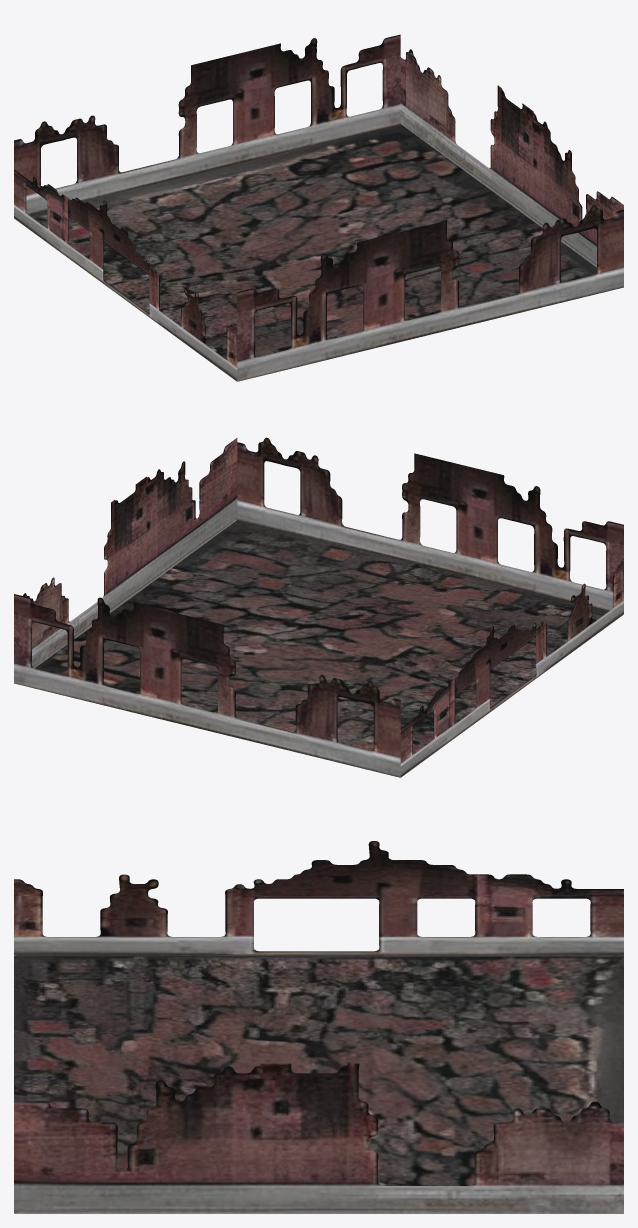
File: city4storya_dam_hdtex.glb
3 renders of one model, top to bottom at view 1: azimuth 30°, elevation 25°; view 2: azimuth 150°, elevation 25°; view 3: azimuth 270°, elevation 25°, orthographic. The views are drawn at different scales.
Parts seen in each view (by area): view 1: City2StoryA; view 2: City2StoryA; view 3: City2StoryA.
Boxes of the visible parts, <box> form: City2StoryA: <box>14,34,623,381</box>; City2StoryA: <box>14,437,623,777</box>; City2StoryA: <box>14,841,623,1213</box>.
Bounding box in the file's own units: 17.76 × 4.82 × 17.76.
Materials: 1 (1 with a texture image).
